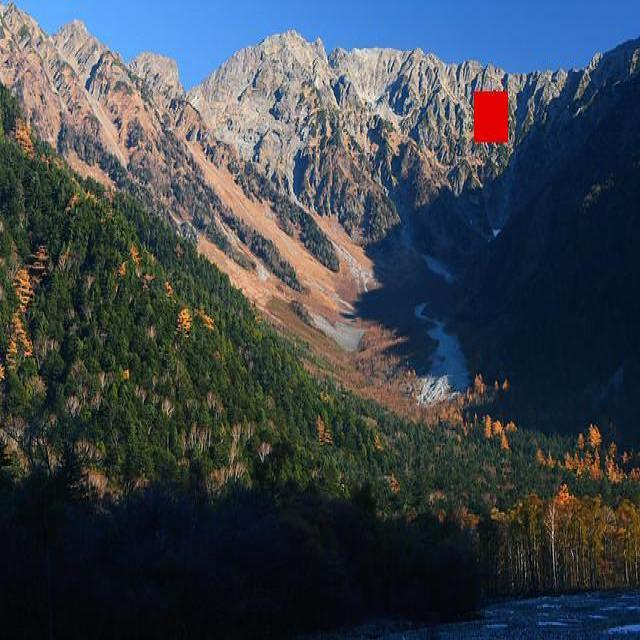RedSquare: (470, 85, 510, 147)
